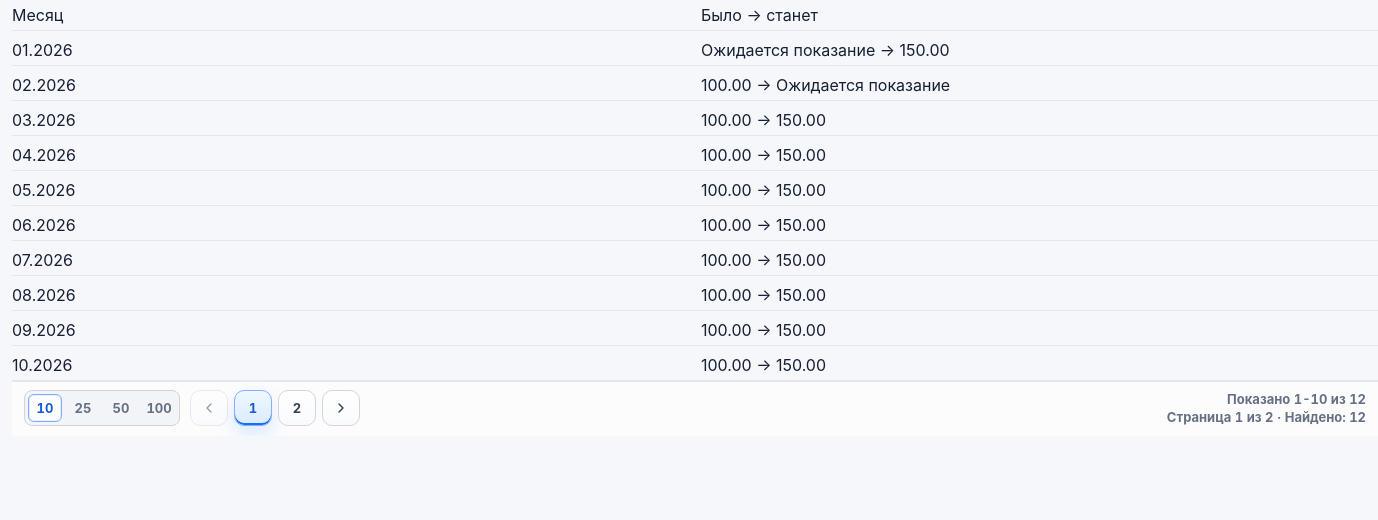
it: shows amount and waiting-status differences with shared pagination
The image size is (1378, 520).
Click the button named "Страница 2": [297, 408] box [278, 390, 316, 426]
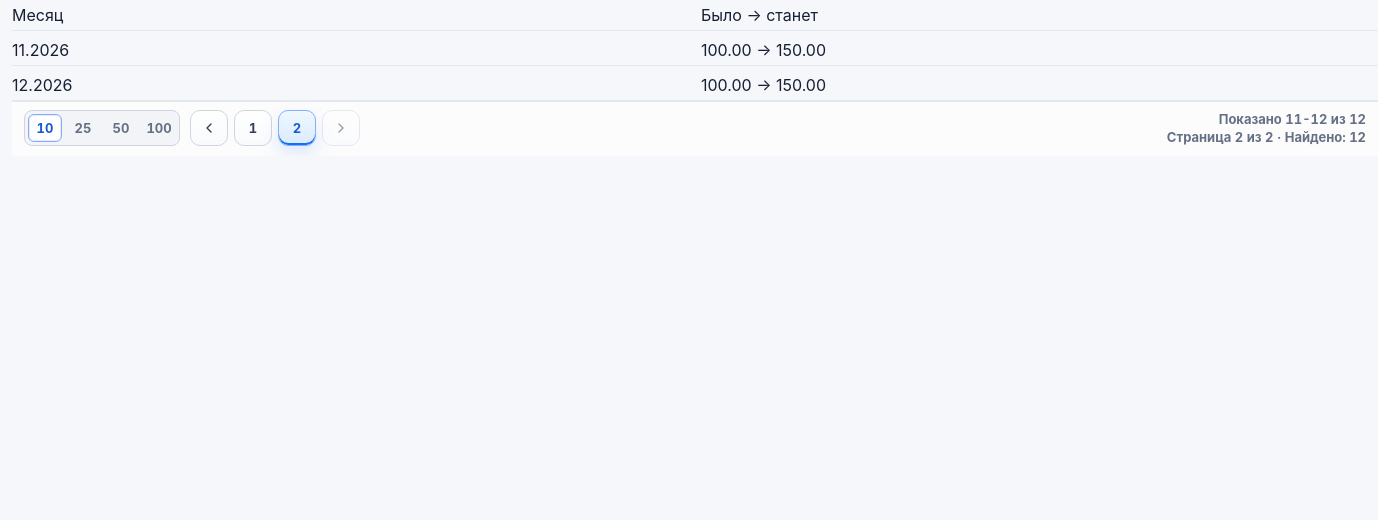
Expected: the text "Показано 11-12 из 12" is shown, [1219, 111, 1366, 127]
Click the button "25": [83, 128] box [66, 114, 100, 142]
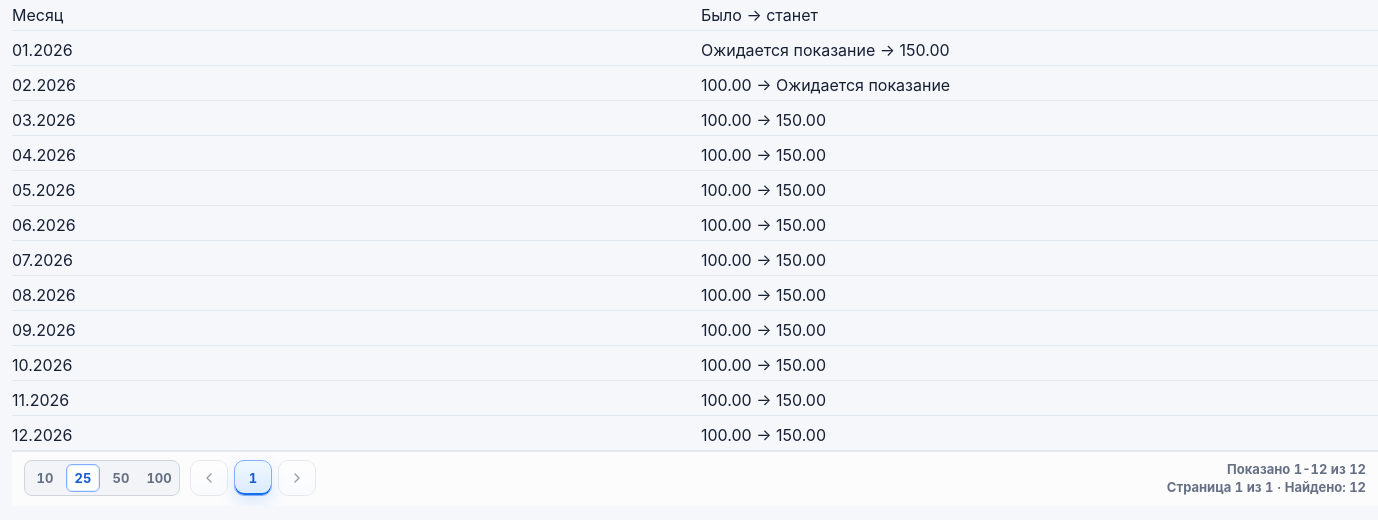
Expected: the text "Показано 1-12 из 12" is shown, [1227, 461, 1366, 477]
